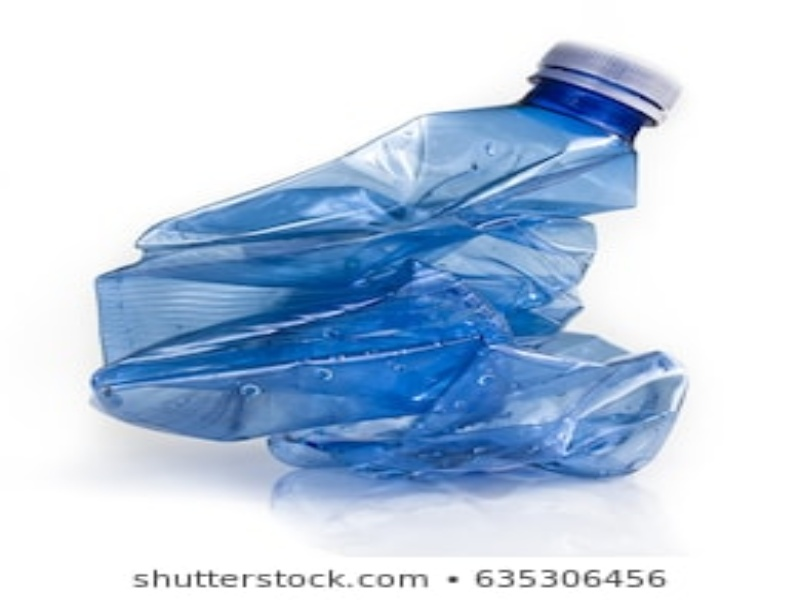bottle-cap: (523, 39, 687, 127)
plastic-bottle: (86, 38, 695, 482)
